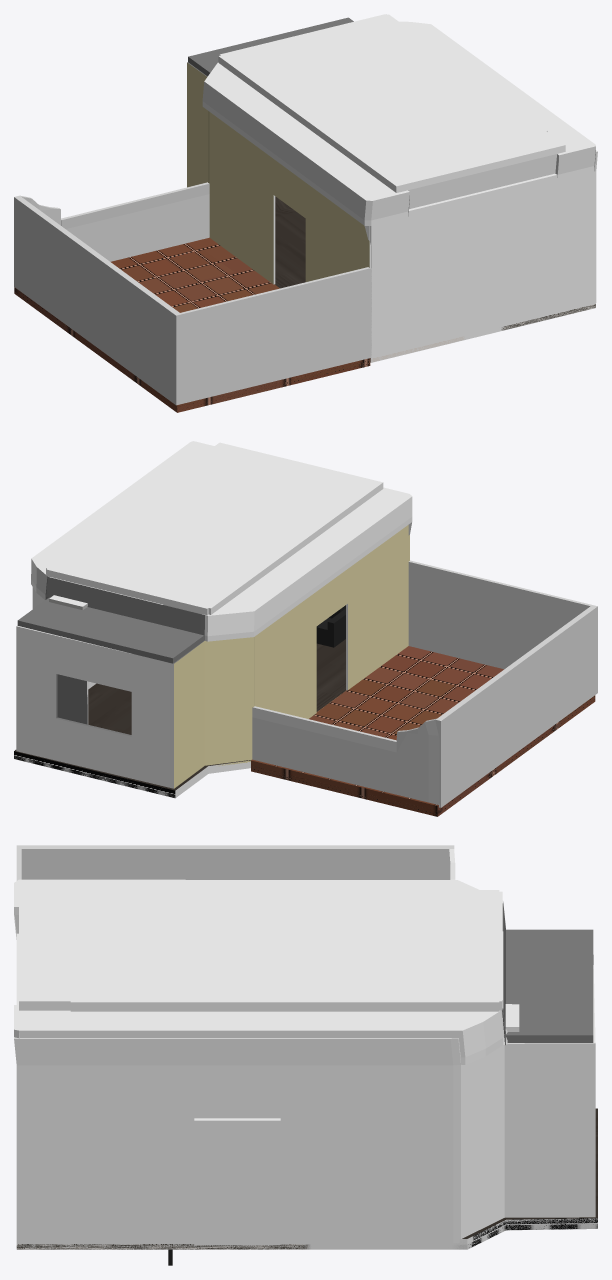
The model's file is Estudio.fbx.
3 views of the same model, one above another, from view 1: azimuth 30°, elevation 25°; view 2: azimuth 150°, elevation 25°; view 3: azimuth 270°, elevation 25° (orthographic). The views are drawn at different scales.
Parts seen in each view (by area): view 1: Cube.002, Cube.003, Cube.001, Cube.004, Cube; view 2: Cube.002, Cube.003, Cube.001, Cube.004, Cube, Cube.006; view 3: Cube.002, Cube.003, Cube.
Boxes of the visible parts, x1=… form: Cube.002: x1=187, y1=14, x2=597, y2=357; Cube.003: x1=14, y1=195, x2=371, y2=405; Cube.001: x1=14, y1=237, x2=370, y2=412; Cube.004: x1=20, y1=182, x2=209, y2=261; Cube: x1=275, y1=196, x2=595, y2=362; Cube.002: x1=16, y1=441, x2=412, y2=788; Cube.003: x1=408, y1=560, x2=597, y2=807; Cube.001: x1=251, y1=646, x2=595, y2=816; Cube.004: x1=252, y1=706, x2=439, y2=807; Cube: x1=14, y1=639, x2=346, y2=798; Cube.006: x1=316, y1=605, x2=345, y2=647; Cube.002: x1=14, y1=879, x2=595, y2=1245; Cube.003: x1=16, y1=845, x2=454, y2=880; Cube: x1=16, y1=1108, x2=597, y2=1249.
Bounding box in the file's own units: 16.98 × 7 × 15.03.
Materials: 7 (4 with a texture image).
